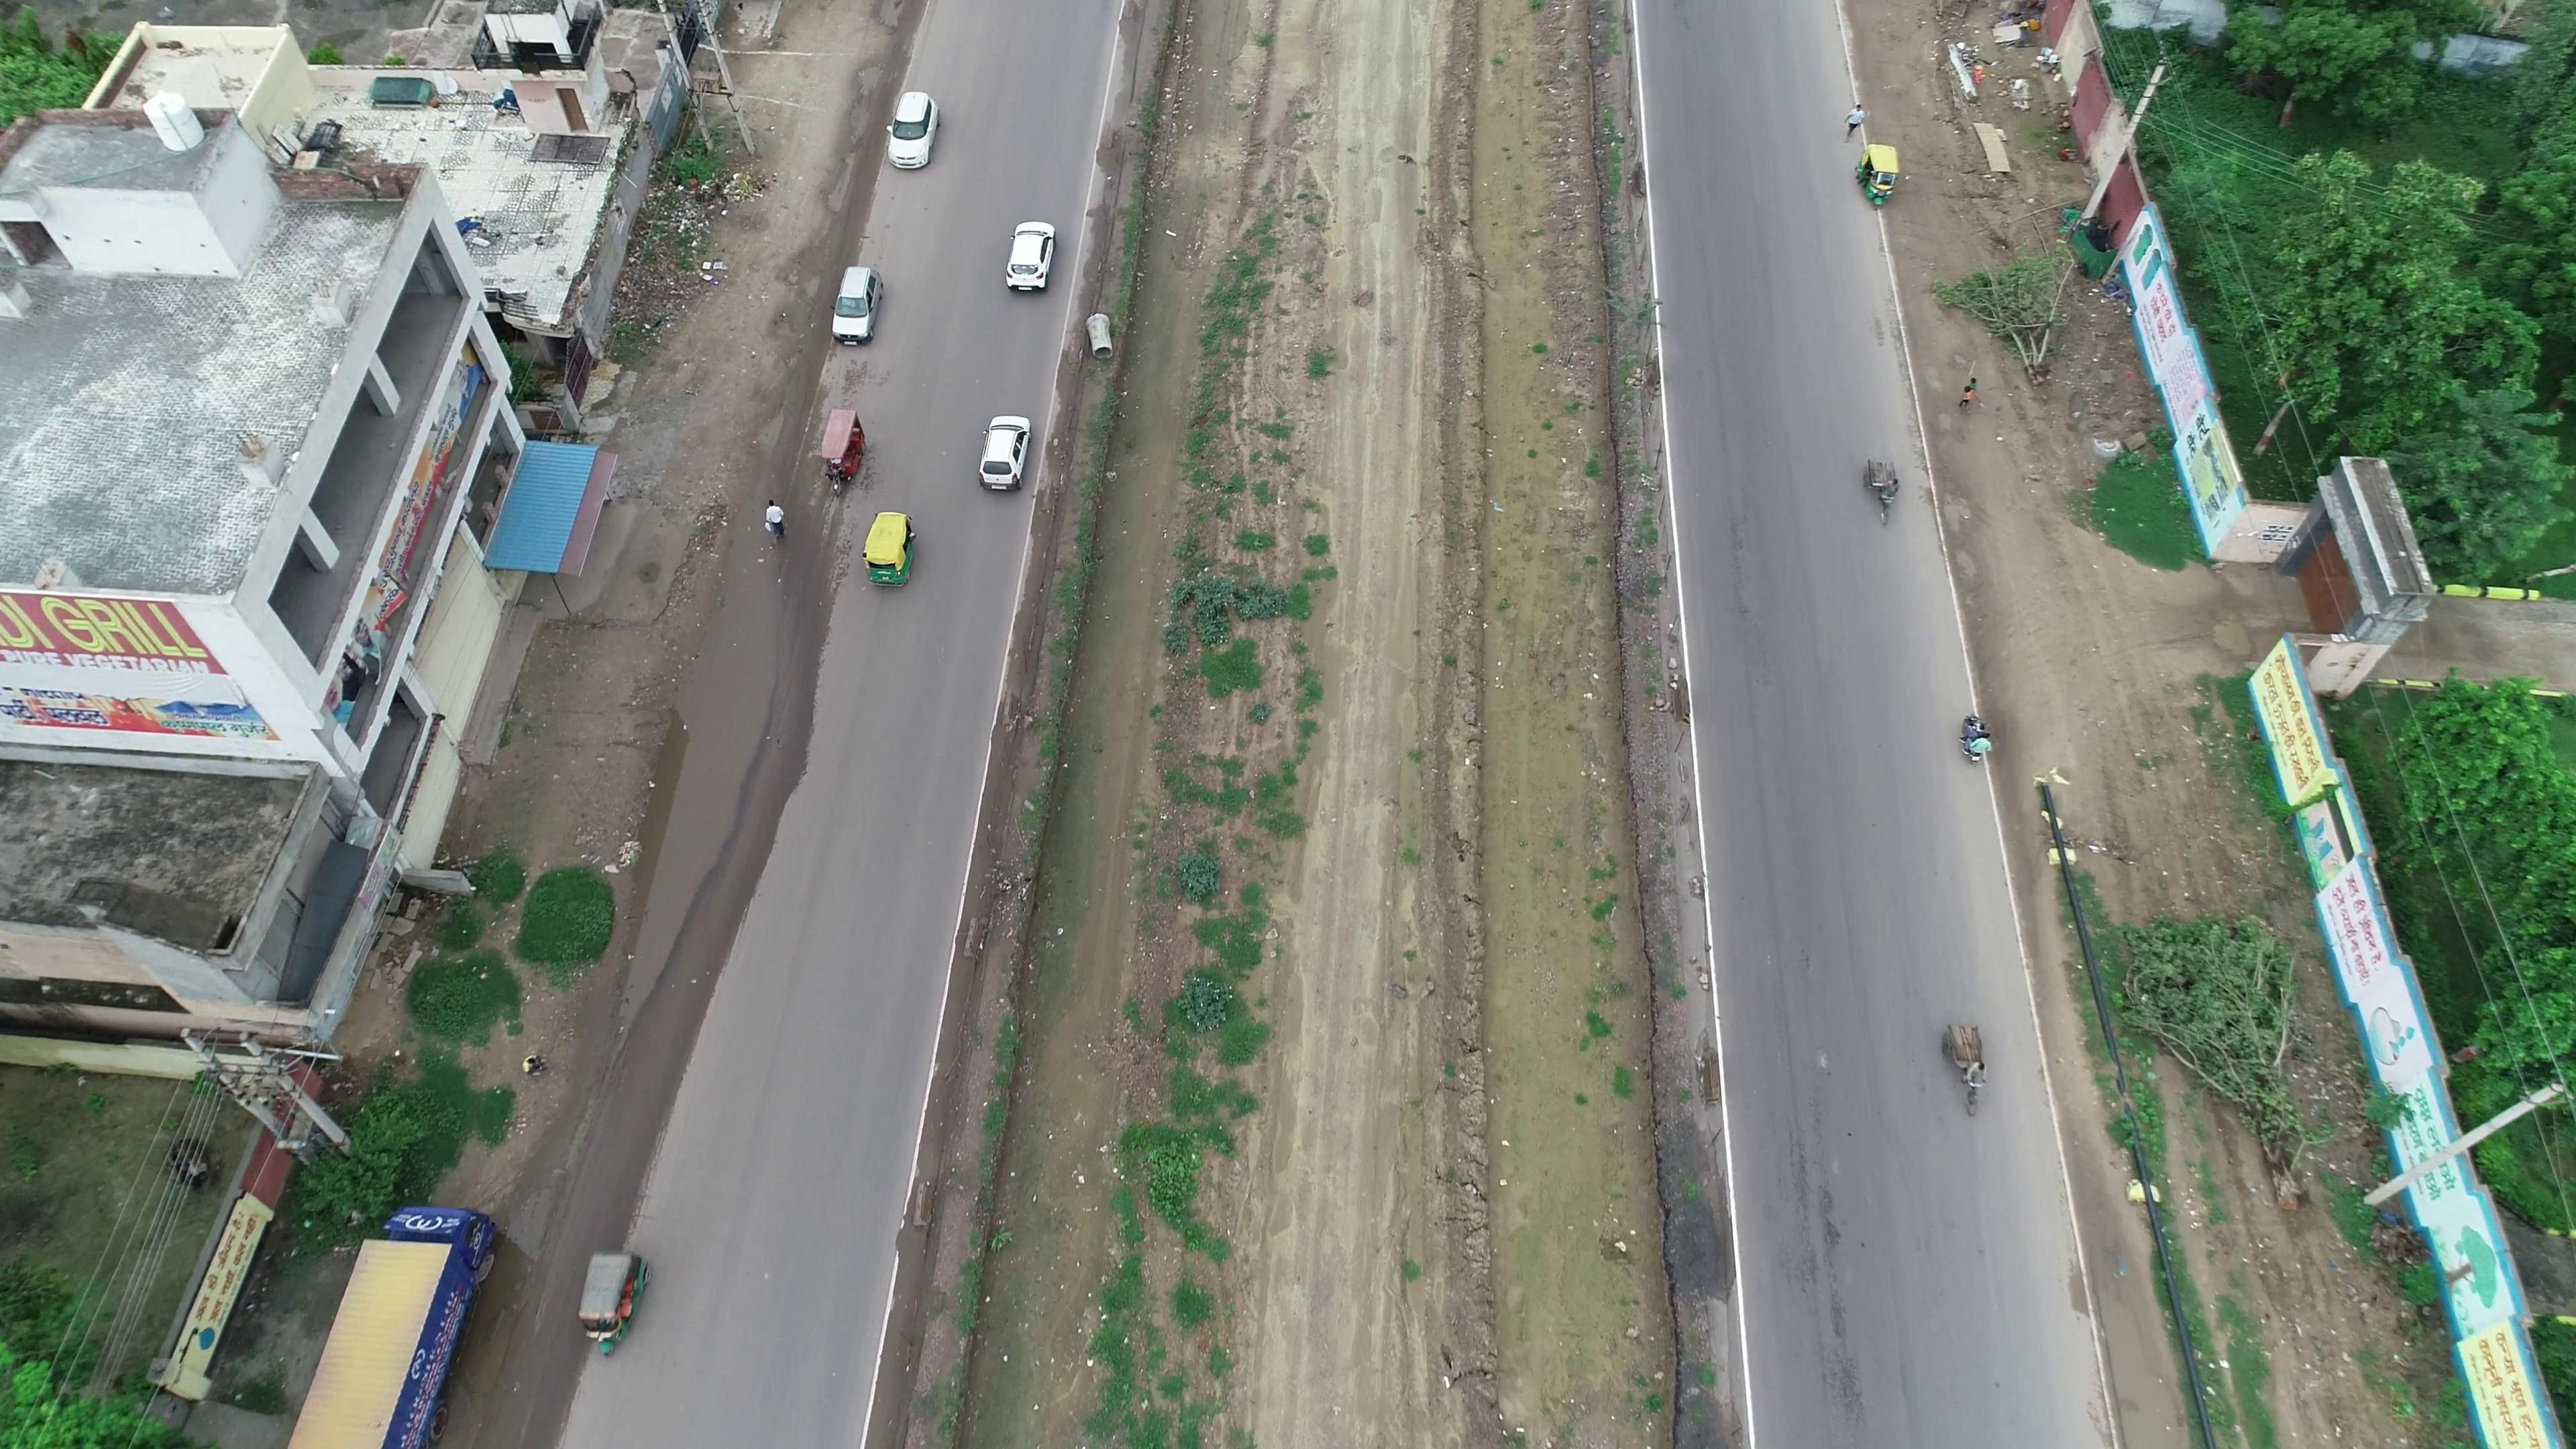Waterlogging: (594, 617, 784, 1056)
